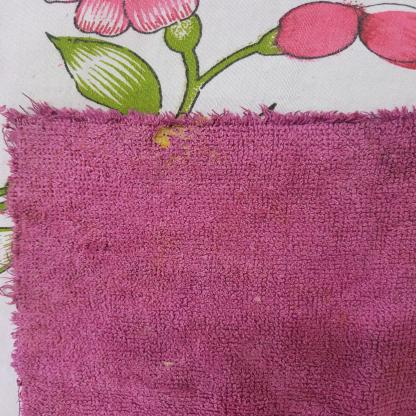spot: (147, 122, 230, 174), (176, 102, 218, 148), (150, 127, 186, 150), (53, 62, 67, 68)
